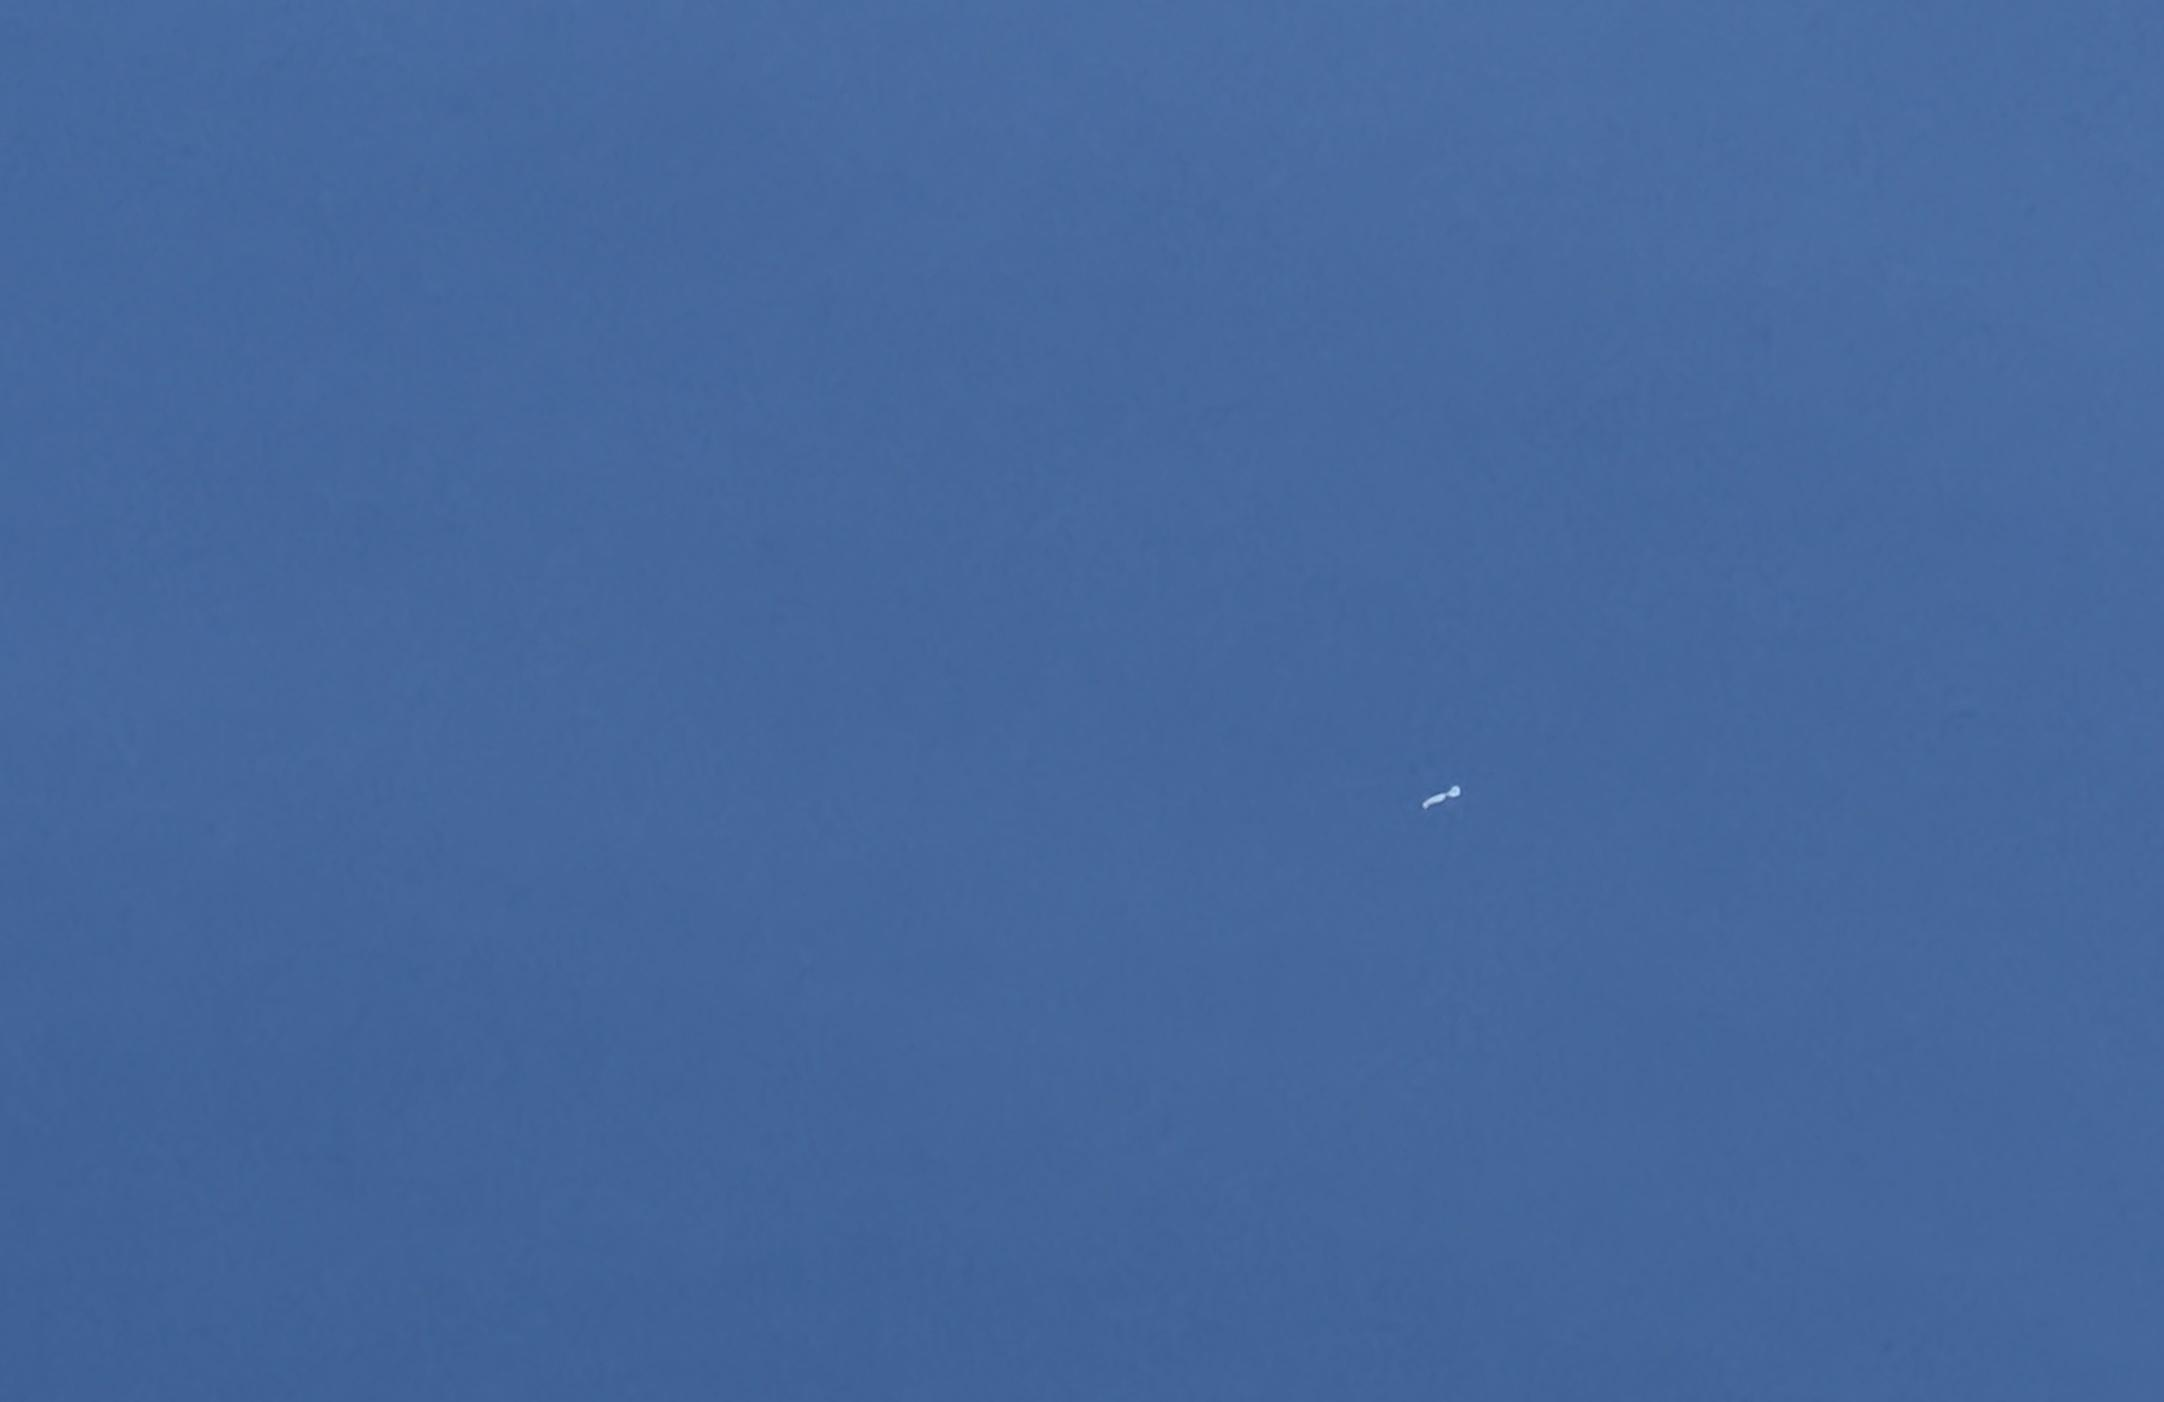Plane: (1399, 755, 1487, 848)
